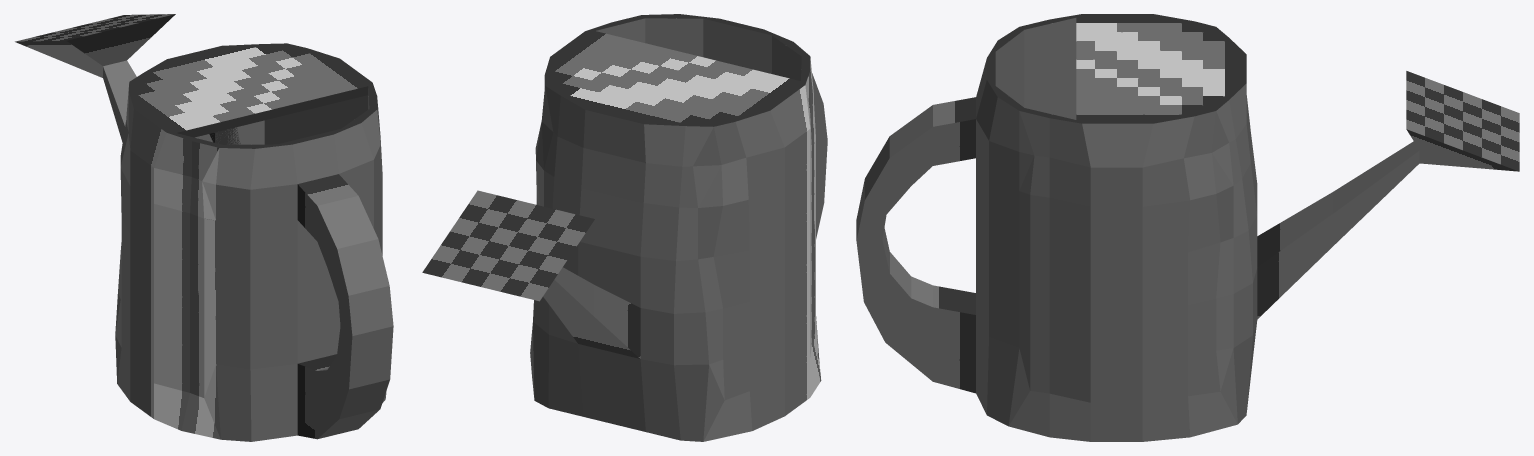
Rendered from prop_wateringCan.gltf.
The picture shows the model from 3 angles, left to right: view 1: azimuth 30°, elevation 25°; view 2: azimuth 150°, elevation 25°; view 3: azimuth 270°, elevation 25°; orthographic projection. The views are drawn at different scales.
Parts seen in each view (by area): view 1: beveled_cuboid; view 2: beveled_cuboid; view 3: beveled_cuboid.
Boxes of the visible parts, <box> form: beveled_cuboid: <box>15,14,393,441</box>; beveled_cuboid: <box>422,14,827,441</box>; beveled_cuboid: <box>856,14,1519,441</box>.
Size of the model in its own units: 0.4062 by 0.5 by 0.9577.
1 material, 1 textured.
